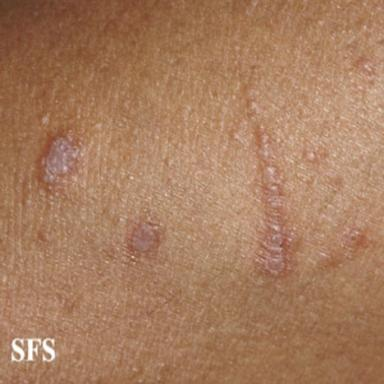lichen: (256, 129, 287, 275), (43, 137, 79, 182), (341, 224, 367, 255), (131, 223, 155, 252)
